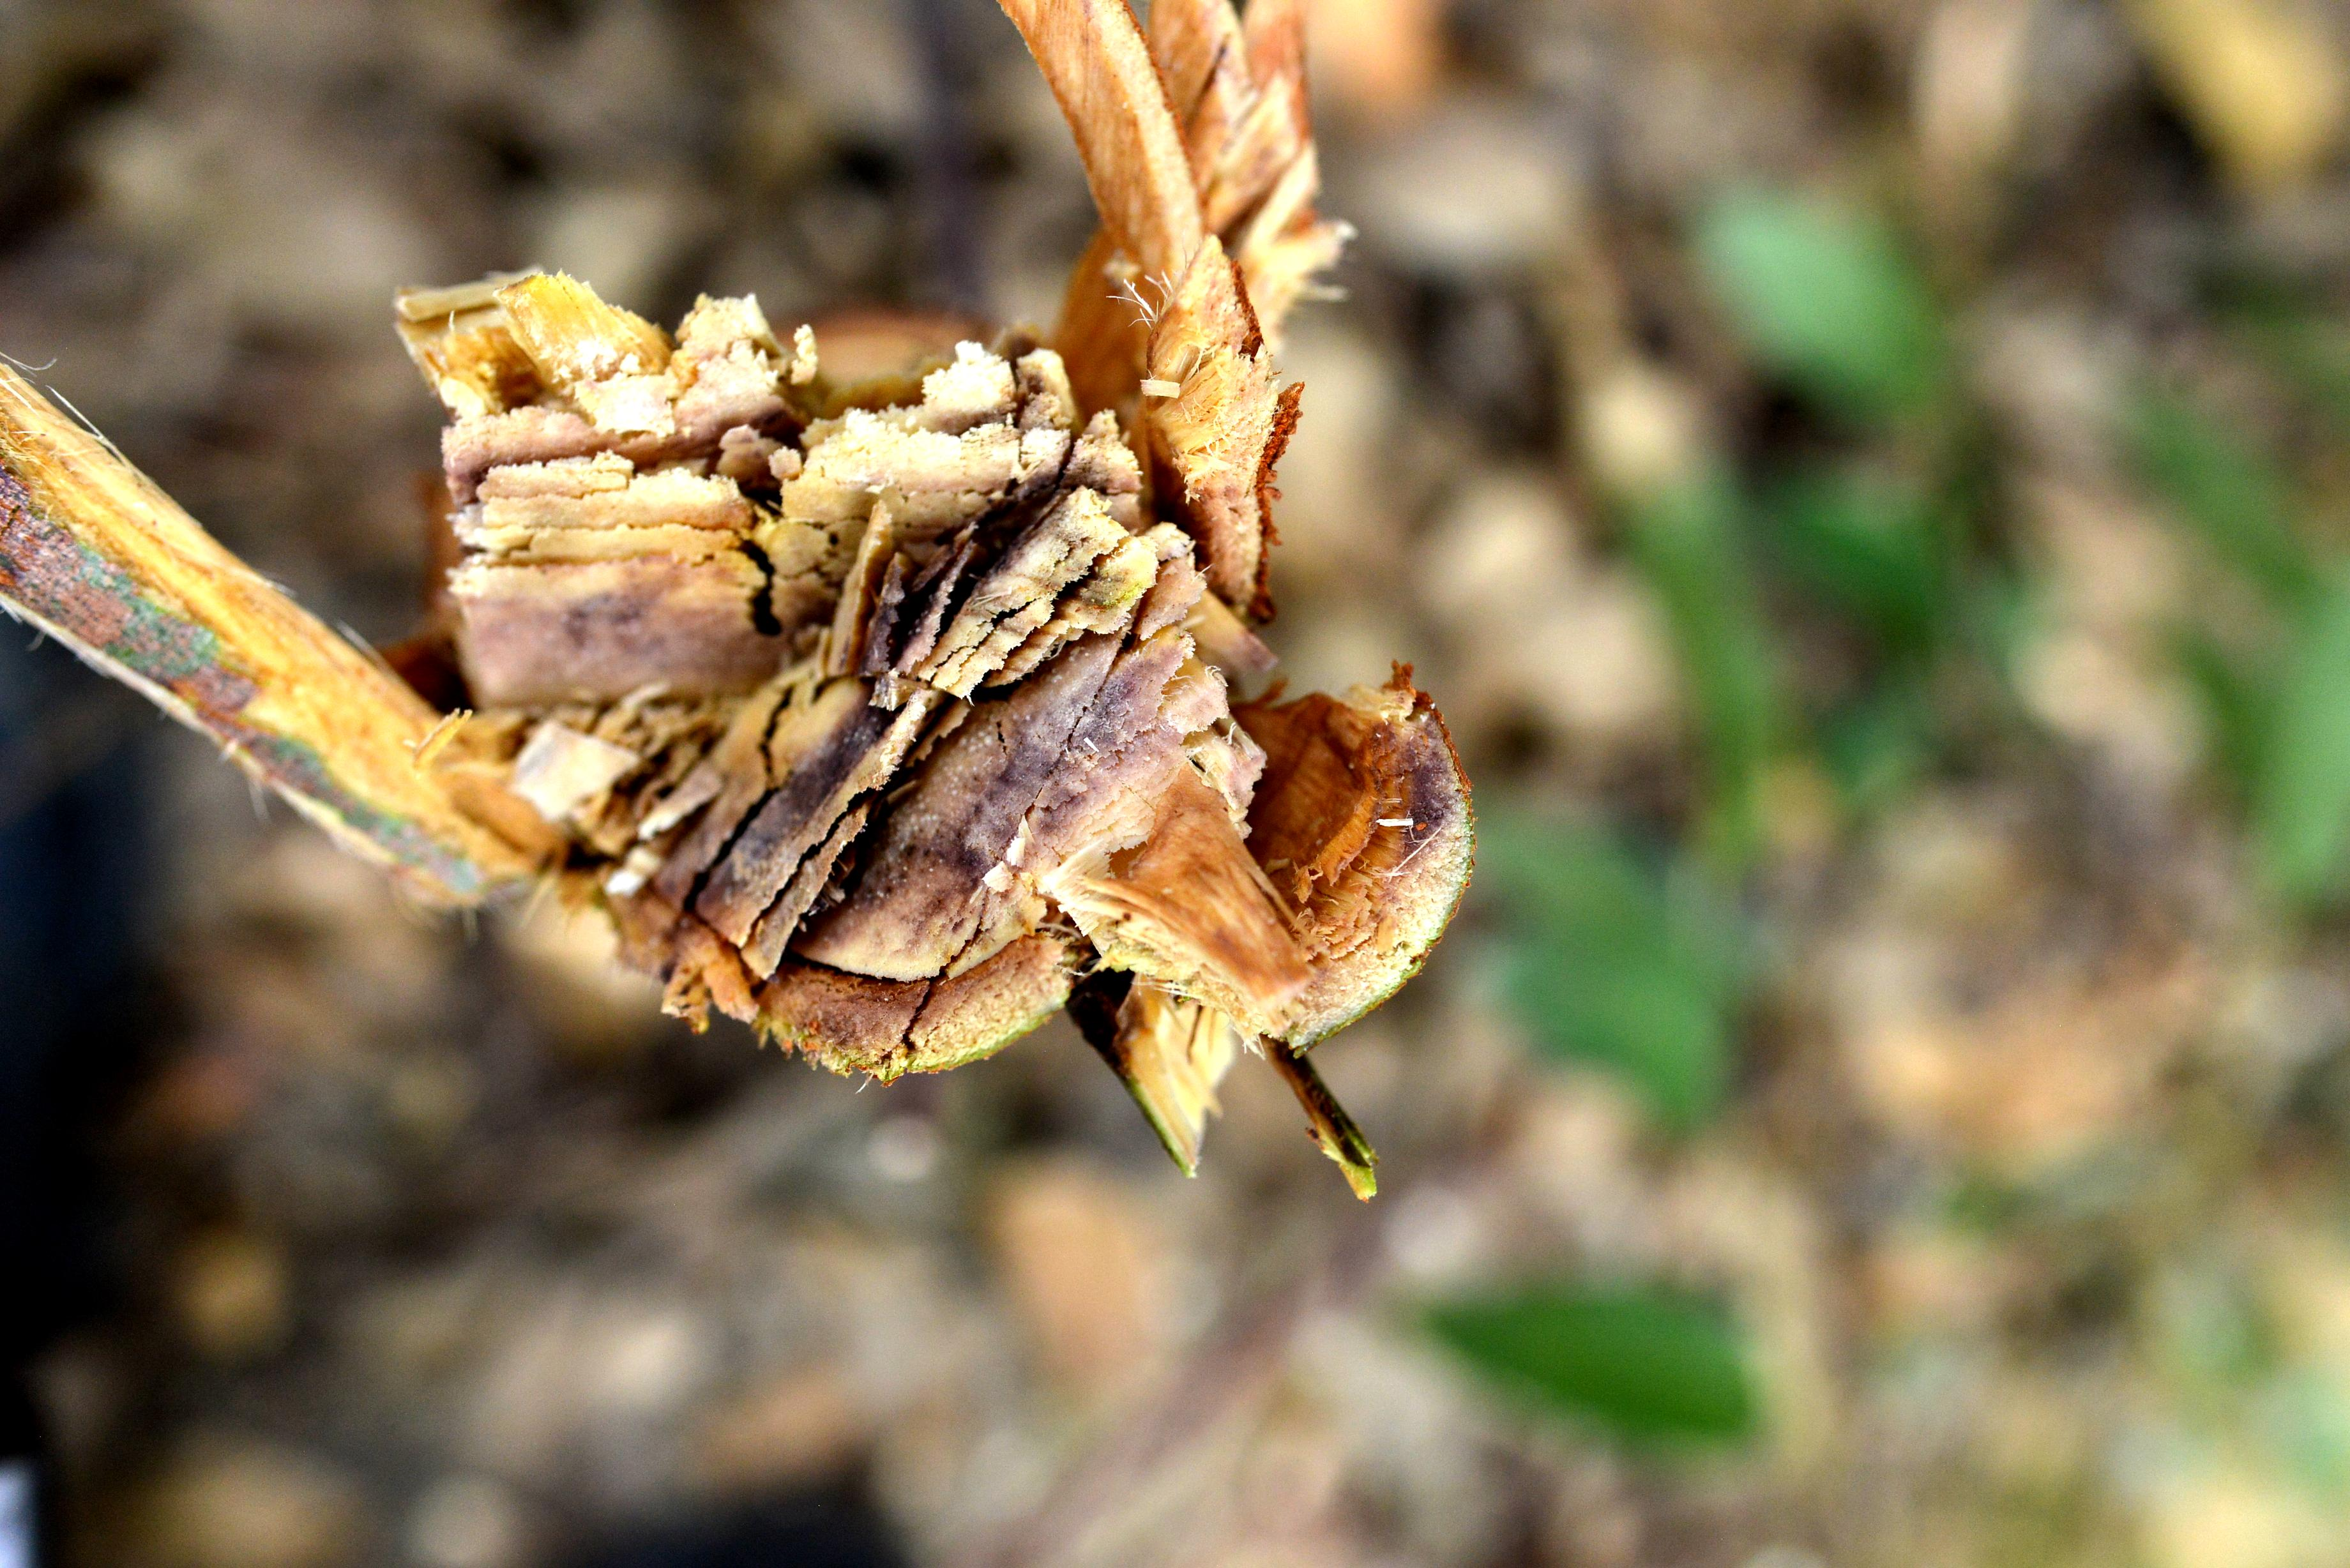Ralstonia: (880, 714, 1001, 906), (514, 306, 672, 397), (1018, 639, 1104, 721), (896, 579, 948, 661)
